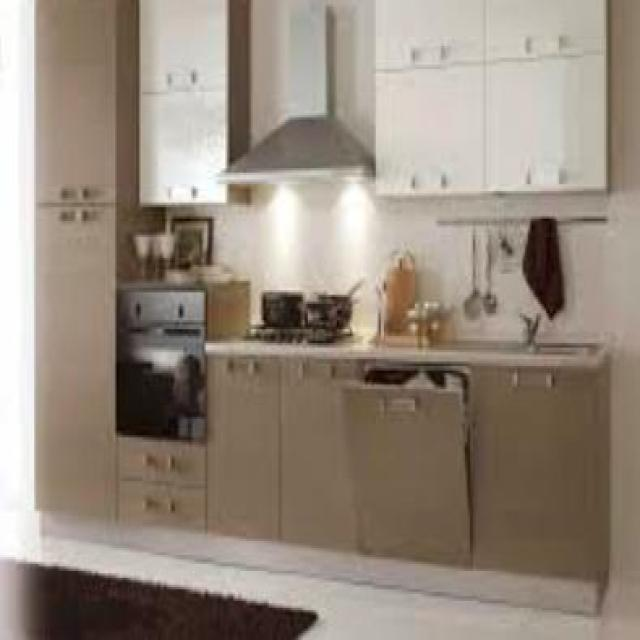dishwasher: (337, 362, 472, 544)
